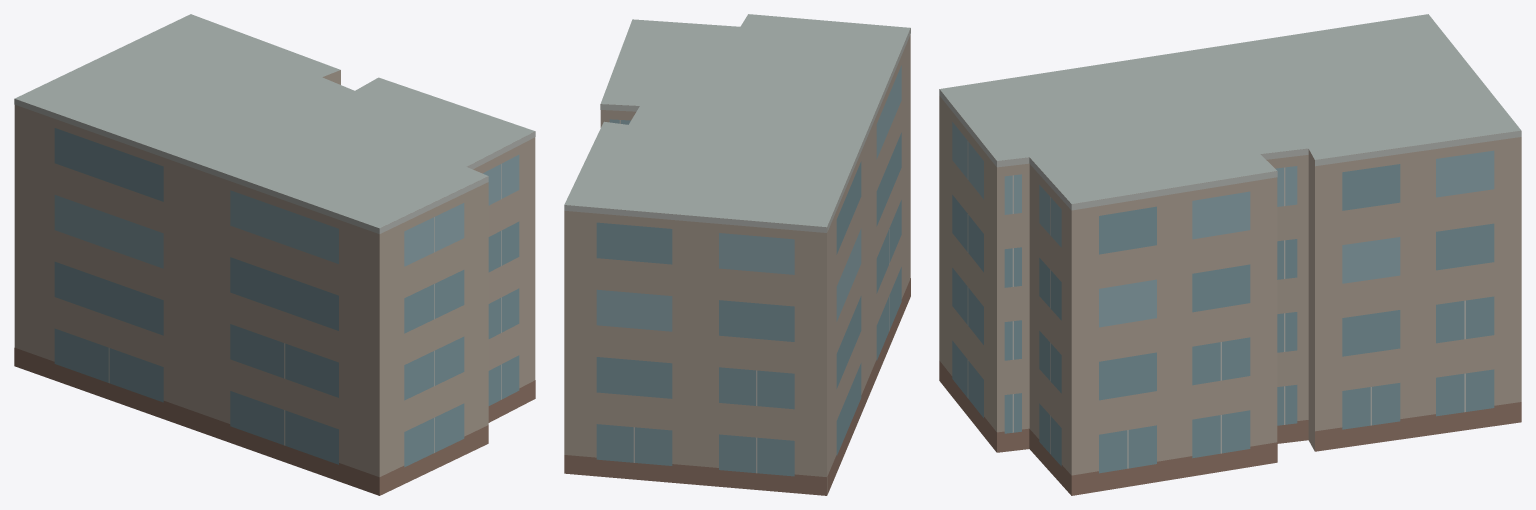
Rendered from survey-upis-33027182.glb.
3 renders of one model, left to right at view 1: azimuth 30°, elevation 25°; view 2: azimuth 150°, elevation 25°; view 3: azimuth 270°, elevation 25°, orthographic. The views are drawn at different scales.
Parts seen in each view (by area): view 1: survey-upis-33027182.tmp; view 2: survey-upis-33027182.tmp; view 3: survey-upis-33027182.tmp.
Boxes of the visible parts, x1=… form: survey-upis-33027182.tmp: x1=14, y1=14, x2=535, y2=495; survey-upis-33027182.tmp: x1=564, y1=14, x2=910, y2=495; survey-upis-33027182.tmp: x1=939, y1=14, x2=1521, y2=495.
Size of the model in its own units: 15.67 by 11.2 by 20.27.
